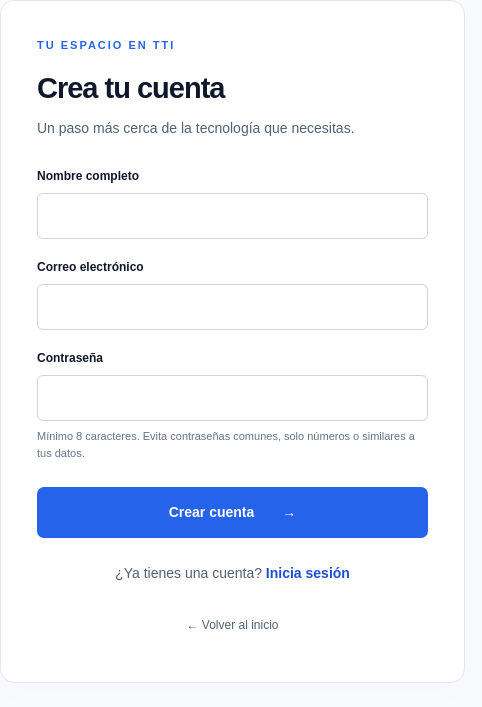
invalid email stops request
Type "not-email" into the field labelled "Correo electrónico" at (232, 307), box x1=37 y1=284 x2=428 y2=330
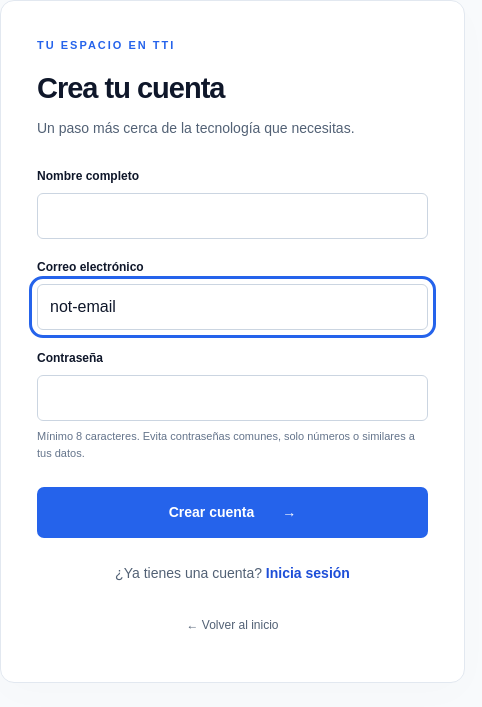
Click the button "Crear cuenta →" at (232, 512), box x1=37 y1=487 x2=428 y2=538
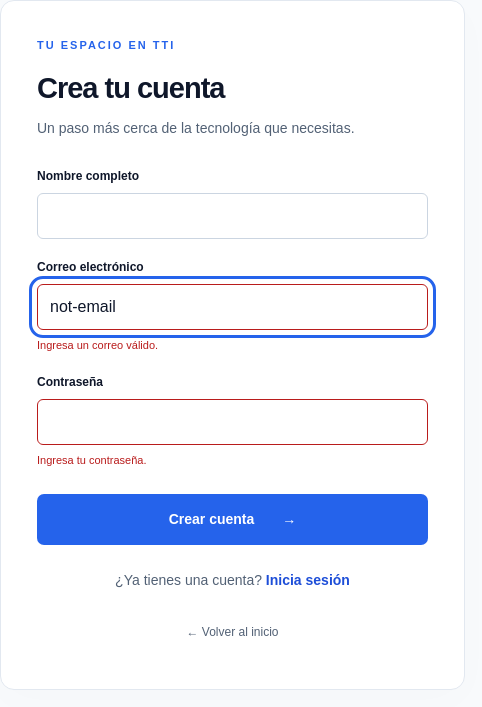
Expected: the text "Ingresa un correo válido." is shown, x1=37 y1=339 x2=158 y2=351
